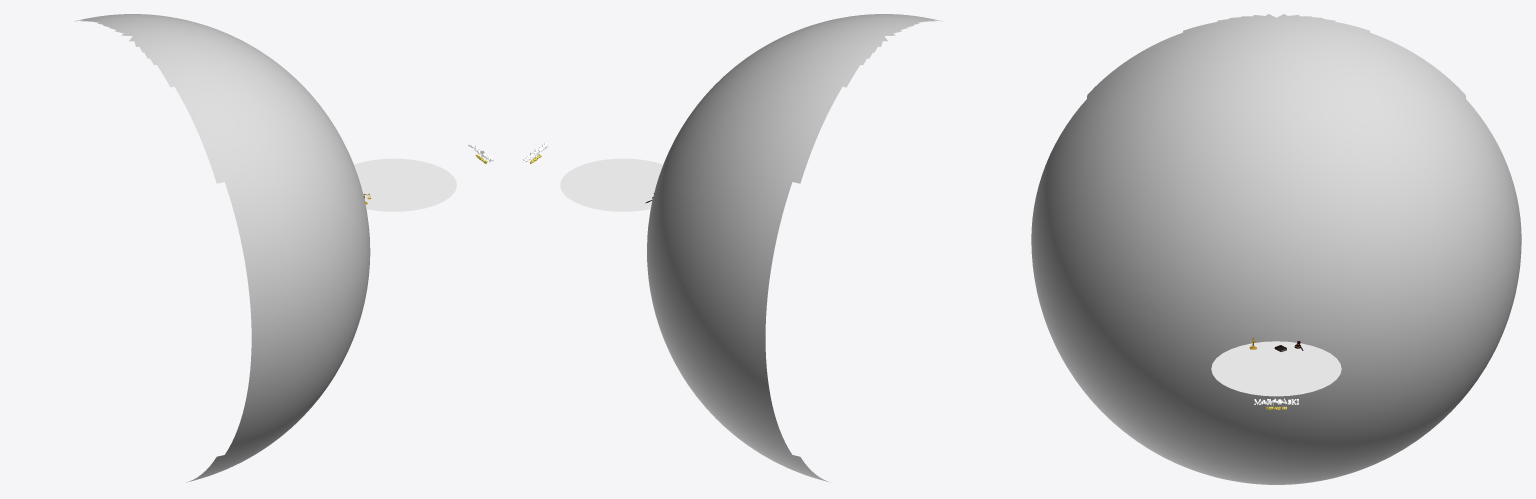
File: home.gltf
3 views of the same model, side by side, from view 1: azimuth 30°, elevation 25°; view 2: azimuth 150°, elevation 25°; view 3: azimuth 270°, elevation 25° (orthographic). The views are drawn at different scales.
Visible parts, largest first — view 1: Sphere, mirror; view 2: Sphere, mirror; view 3: Sphere, mirror.
Part boxes in pixels (left/top/right/bottom): Sphere: left=75, top=14, right=370, bottom=482; mirror: left=354, top=158, right=456, bottom=211; Sphere: left=647, top=14, right=941, bottom=482; mirror: left=560, top=158, right=662, bottom=211; Sphere: left=1031, top=14, right=1521, bottom=484; mirror: left=1211, top=341, right=1341, bottom=396.
Size of the model in its own units: 51.21 by 58.64 by 58.64.
Materials: 9 (6 with a texture image).
